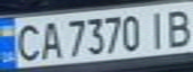0: (121, 11, 145, 52)
3: (84, 15, 106, 56)
7: (63, 16, 87, 57), (103, 12, 124, 54)
A: (36, 18, 63, 61)
B: (163, 6, 193, 48)
C: (9, 20, 45, 63)
I: (142, 7, 172, 50)
